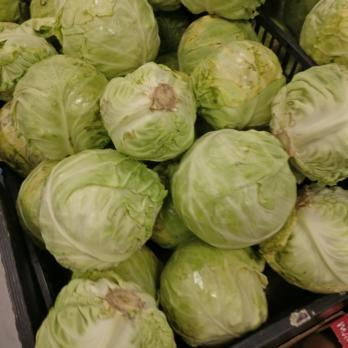Cabbage: (0, 0, 348, 193), (34, 192, 348, 289), (35, 280, 194, 348)
